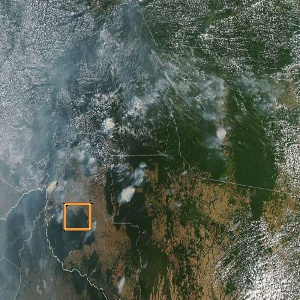square: (61, 201, 93, 232)
